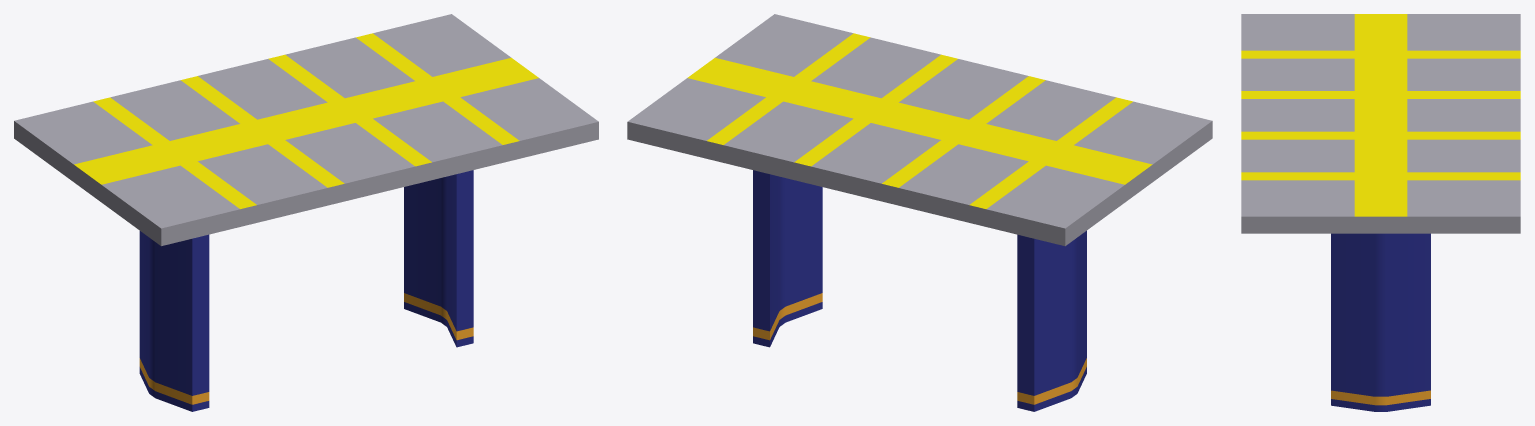
File: Table_Level_04.fbx
3 renders of one model, left to right at view 1: azimuth 30°, elevation 25°; view 2: azimuth 150°, elevation 25°; view 3: azimuth 270°, elevation 25°, orthographic. The views are drawn at different scales.
Parts seen in each view (by area): view 1: Table_Level_04:Table___04; view 2: Table_Level_04:Table___04; view 3: Table_Level_04:Table___04.
Part boxes in pixels (x1,y1,x2,y2): Table_Level_04:Table___04: [14, 14, 598, 411]; Table_Level_04:Table___04: [627, 14, 1212, 411]; Table_Level_04:Table___04: [1241, 14, 1520, 411].
Bounding box in the file's own units: 419 × 217 × 244.
